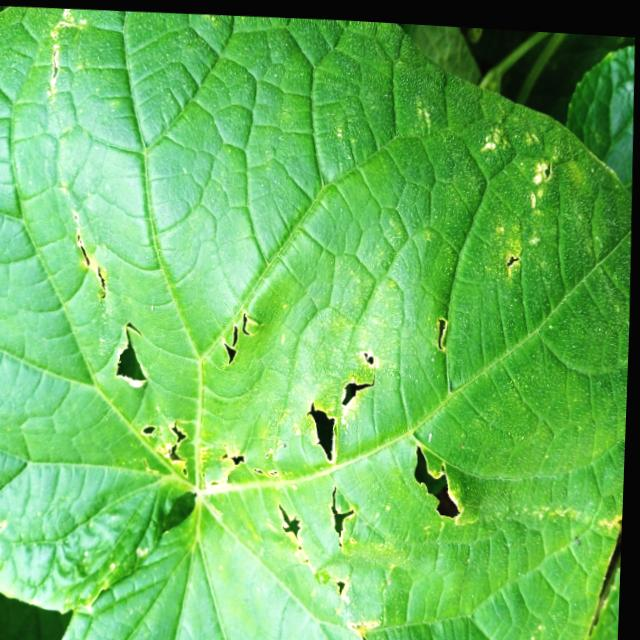Anthracnose: (132, 411, 289, 496), (271, 479, 363, 605), (302, 340, 382, 469), (406, 436, 471, 523), (109, 312, 155, 390), (211, 304, 259, 374)
